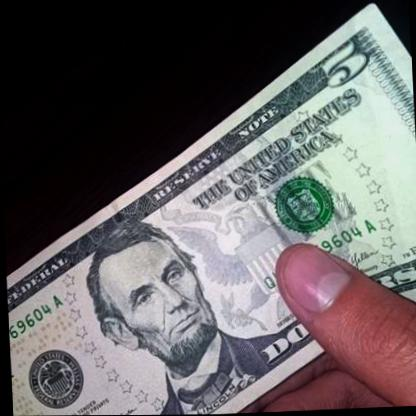five-front: (0, 18, 416, 416)
